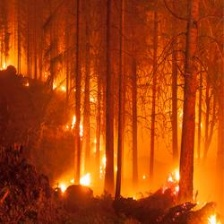fire: (41, 77, 224, 223)
